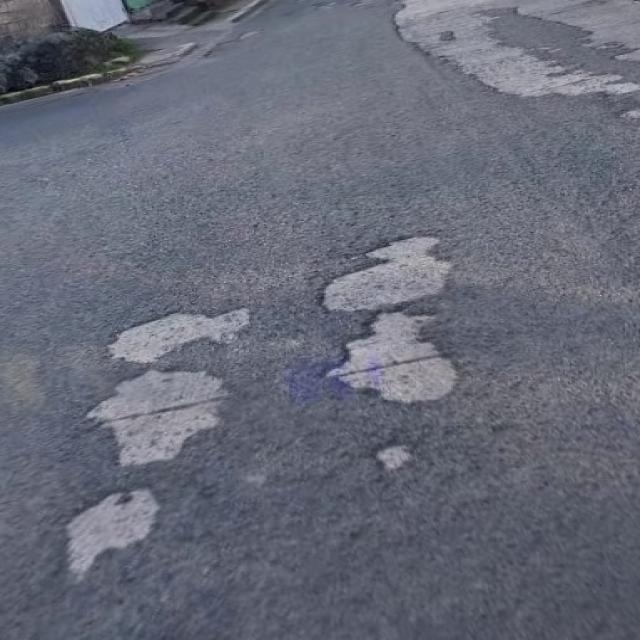pothole: (284, 217, 506, 427), (58, 352, 256, 484), (40, 475, 196, 601), (35, 296, 272, 374), (344, 420, 481, 500)
